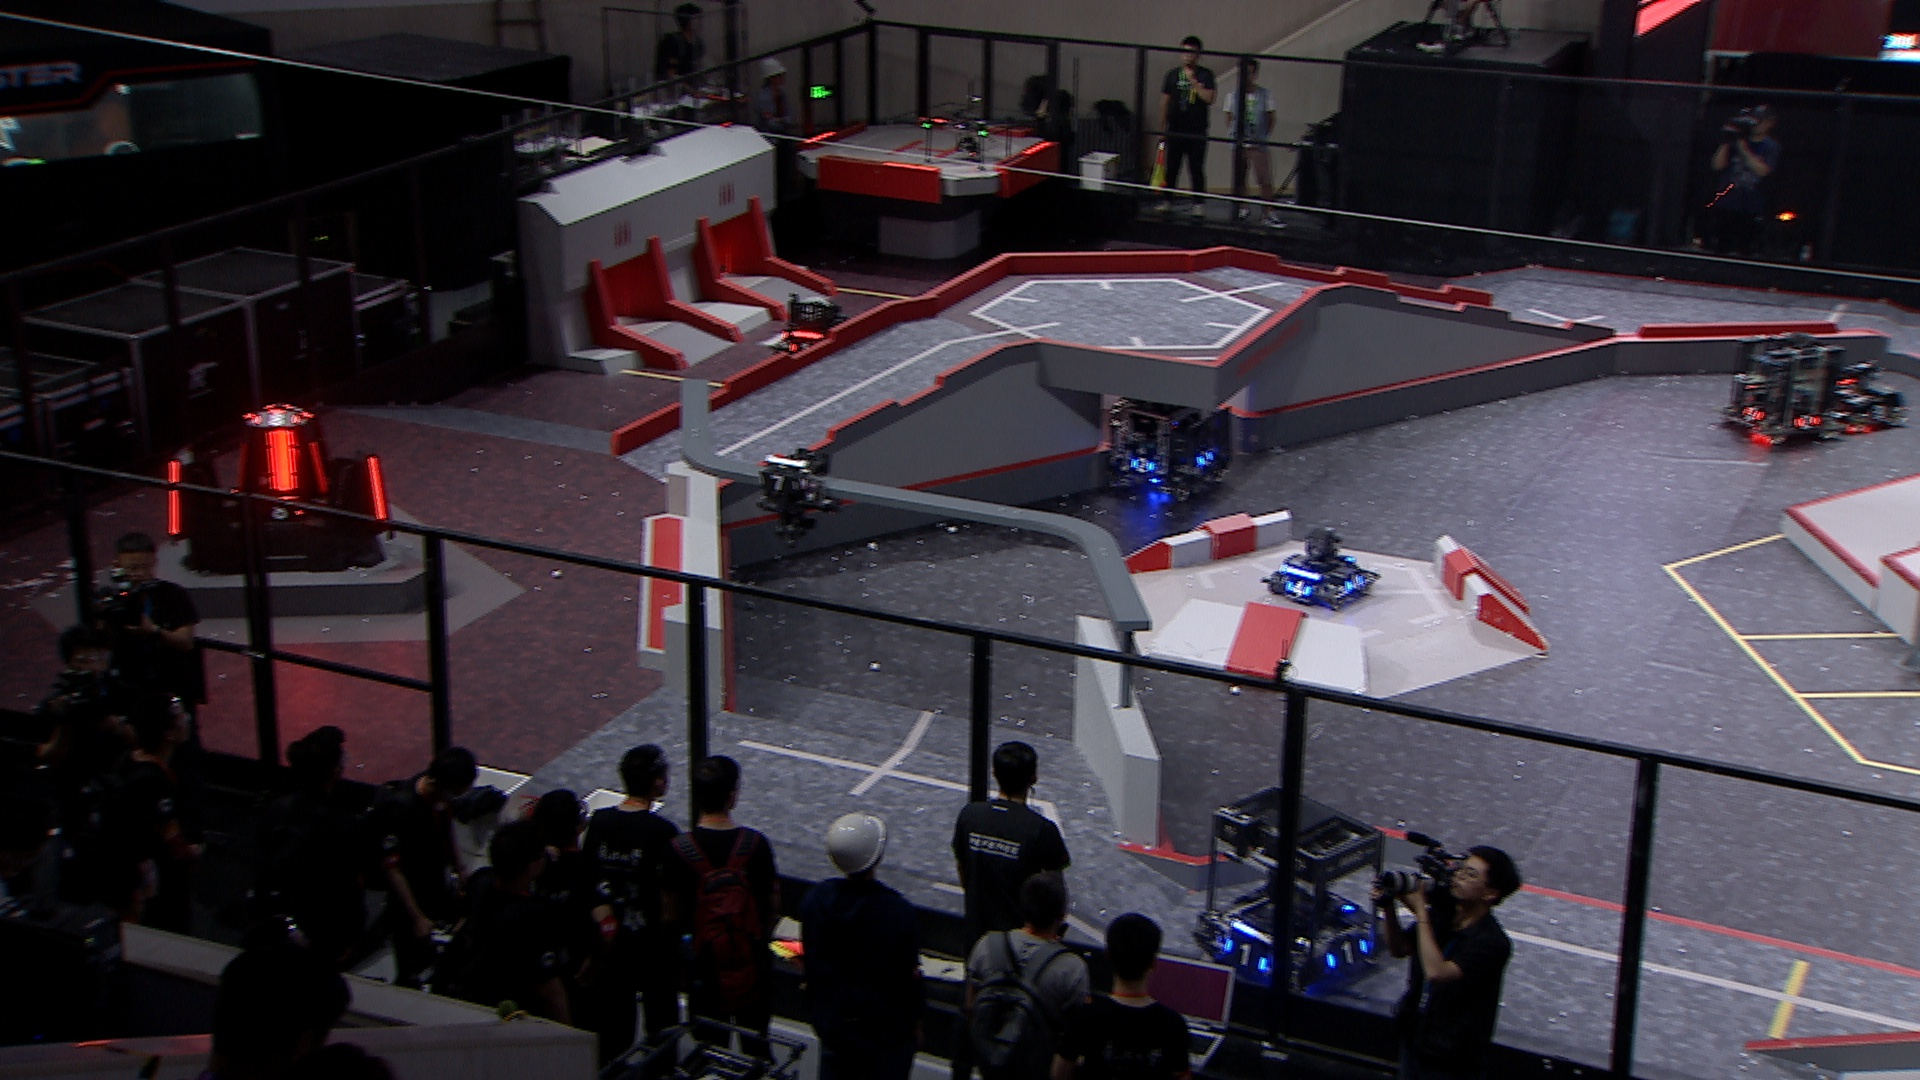armor: (261, 427, 301, 493), (365, 455, 392, 524), (1221, 938, 1269, 973), (305, 438, 332, 495), (166, 458, 185, 537), (1325, 939, 1371, 971), (229, 439, 251, 493), (249, 411, 305, 429), (756, 472, 799, 491), (262, 505, 302, 524), (1127, 456, 1156, 479), (1283, 579, 1313, 600), (1737, 404, 1768, 423), (1792, 411, 1821, 431), (1869, 401, 1892, 422), (1342, 574, 1365, 593), (1192, 451, 1215, 469)
base: (164, 404, 400, 578)
car: (1195, 785, 1391, 986), (1716, 332, 1849, 447), (1106, 392, 1236, 502), (1258, 524, 1378, 609), (773, 294, 858, 373), (1821, 361, 1908, 433)
watcher: (752, 444, 839, 543)
